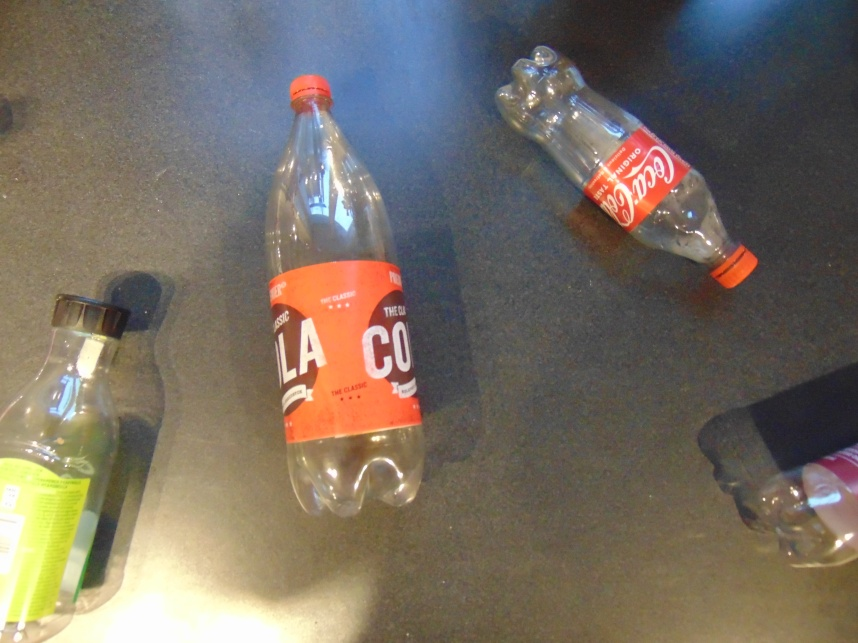plastic_bottle: (263, 73, 428, 521), (494, 39, 760, 289), (1, 286, 133, 643), (759, 445, 858, 570)
